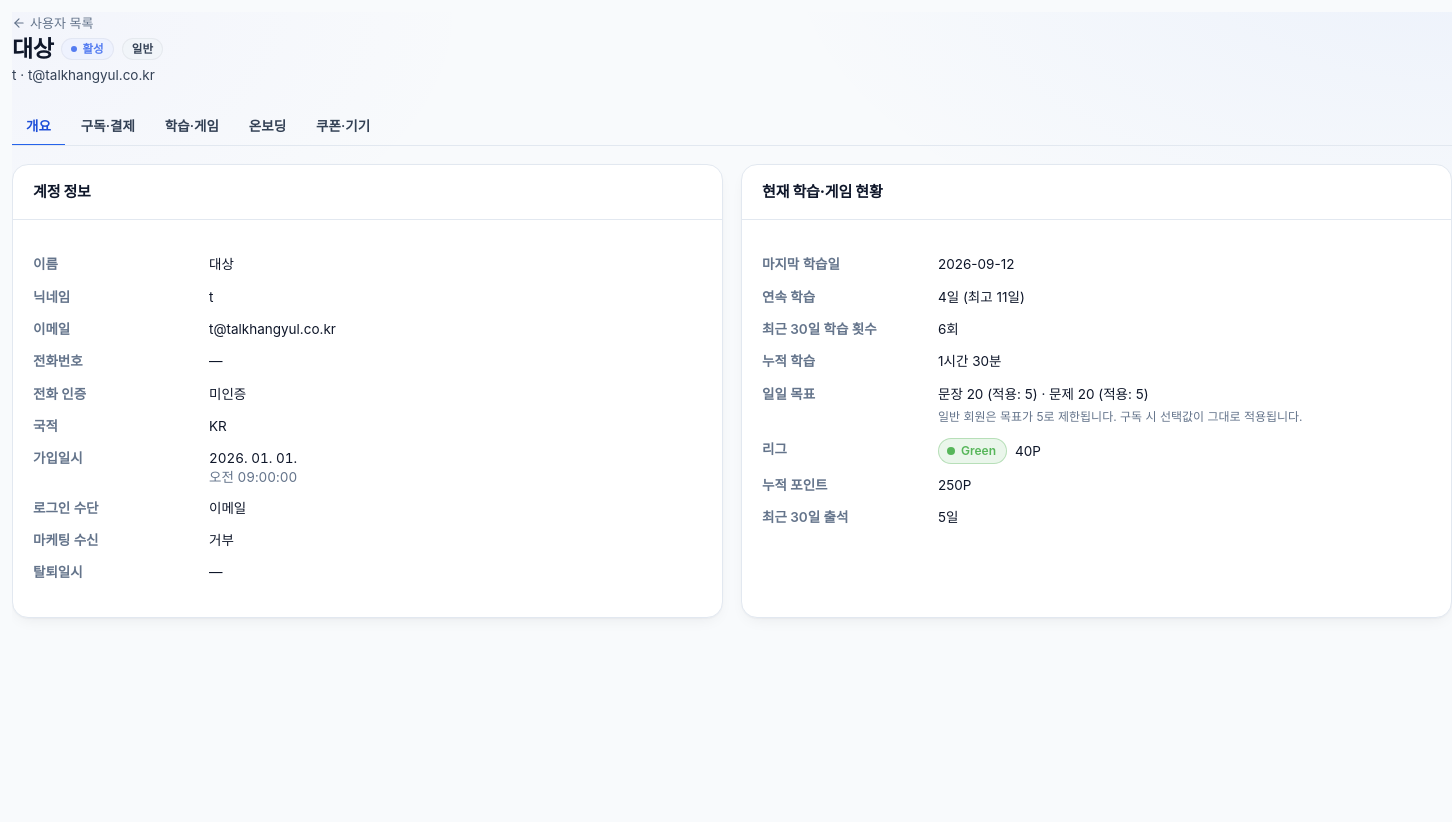
Test case: 온보딩 › has a tab of its own holding the signup answers
Check: the text "계정 정보" is shown, box [33,180,91,203]
Click the button "온보딩" at (267, 126), box [235,106,300,146]
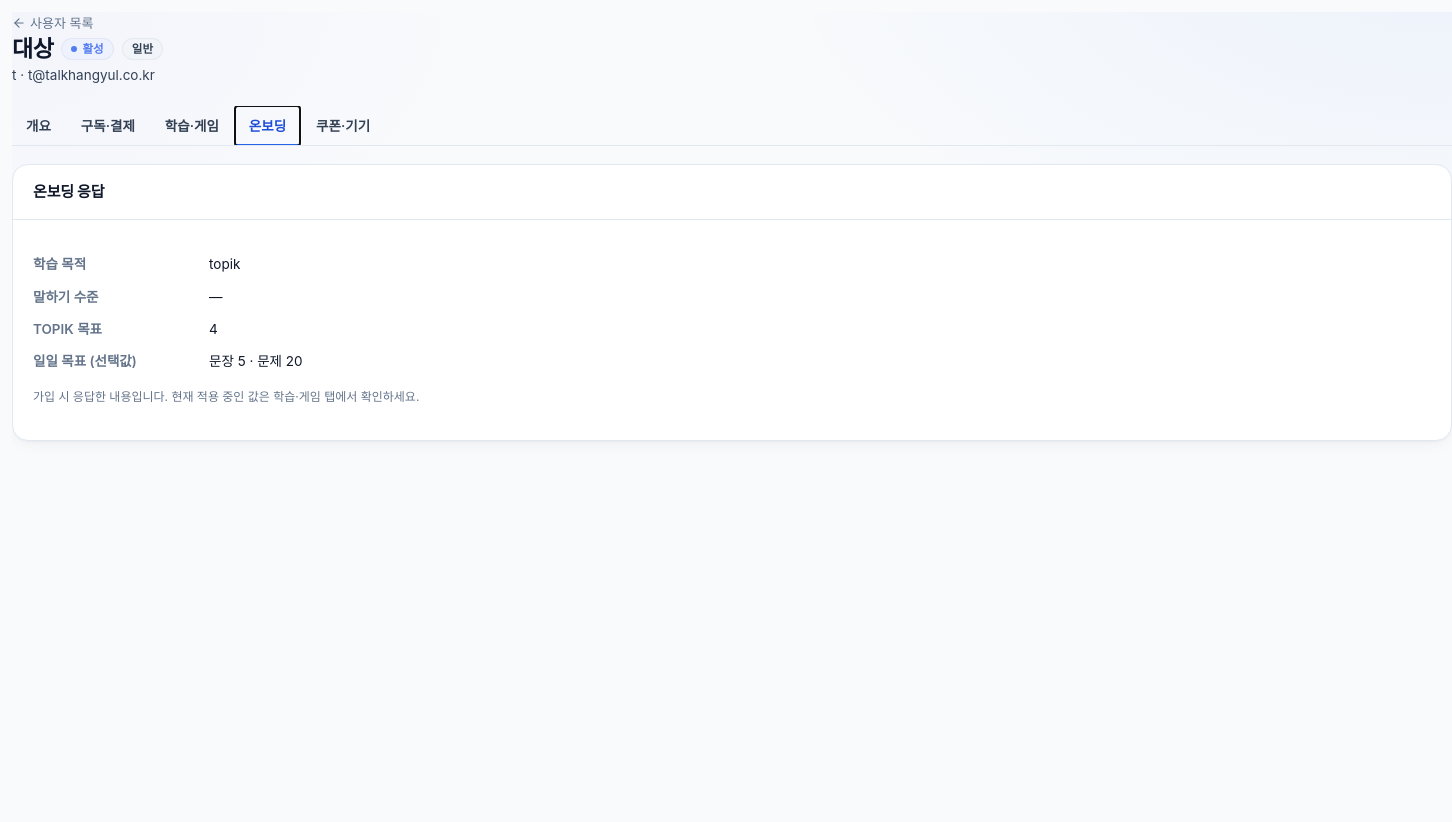
Check: the text "온보딩 응답" is shown, box [33,180,104,203]
Check: the text "학습 목적" is shown, box [33,256,86,272]
Check: the text "문장 5 · 문제 20" is shown, box [209,353,302,369]
